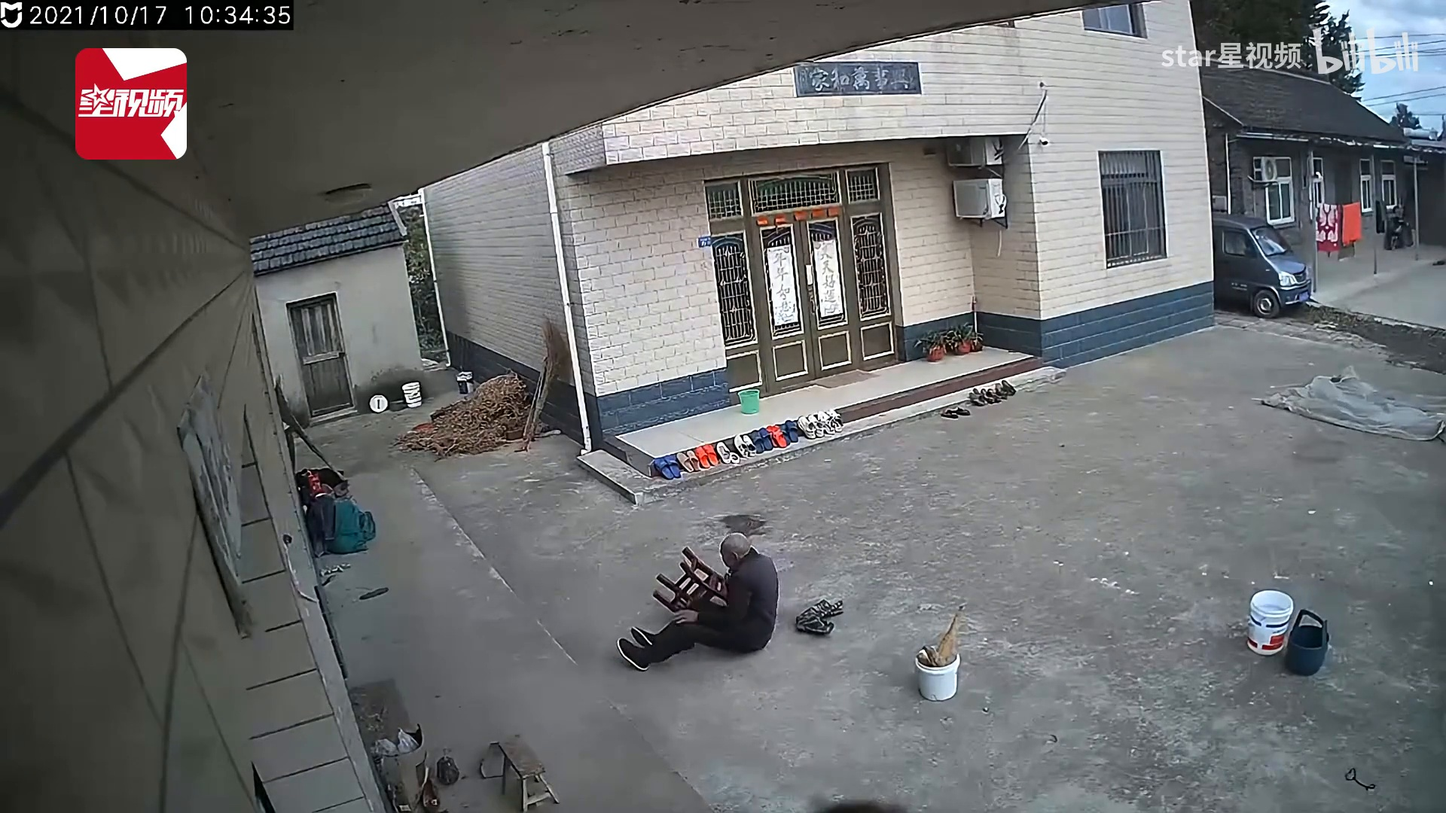half_up: (615, 531, 779, 671)
